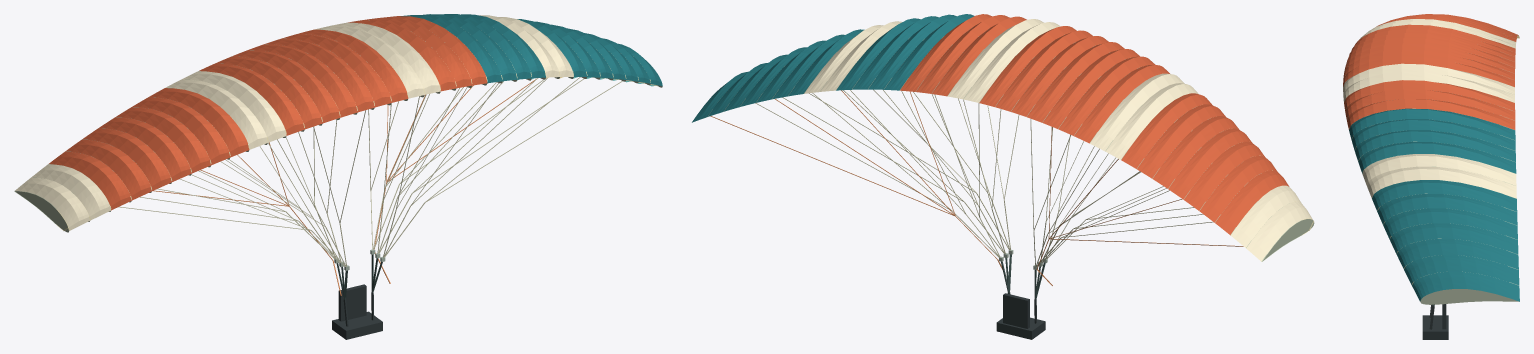
Rendered from parafoil.glb.
3 renders of one model, left to right at view 1: azimuth 30°, elevation 25°; view 2: azimuth 150°, elevation 25°; view 3: azimuth 270°, elevation 25°, orthographic. The views are drawn at different scales.
Parts seen in each view (by area): view 1: parafoil; view 2: parafoil; view 3: parafoil.
Part boxes in pixels (<box>): parafoil: <box>14,14,662,339</box>; parafoil: <box>692,14,1314,339</box>; parafoil: <box>1343,14,1519,339</box>.
Bounding box in the file's own units: 11.61 × 5.58 × 3.29.
